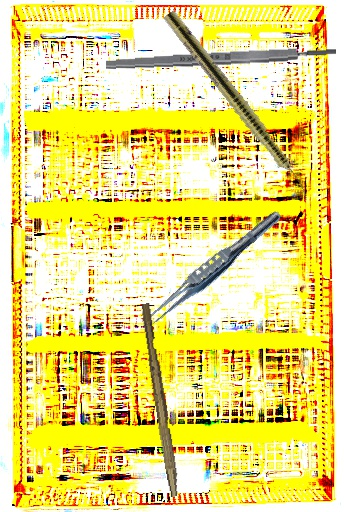Handpiece: (160, 9, 318, 203)
Scalpel Handle: (136, 302, 185, 498), (105, 44, 337, 72)
Tissue Forceps: (141, 203, 286, 333)
